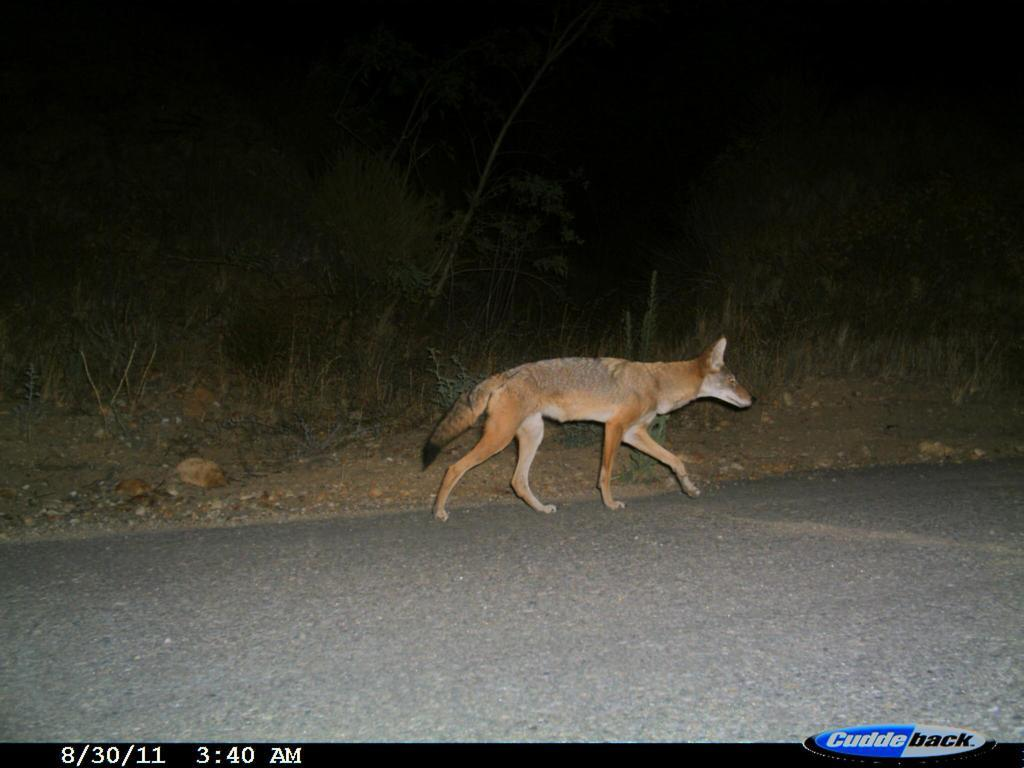coyote: (415, 329, 760, 528)
